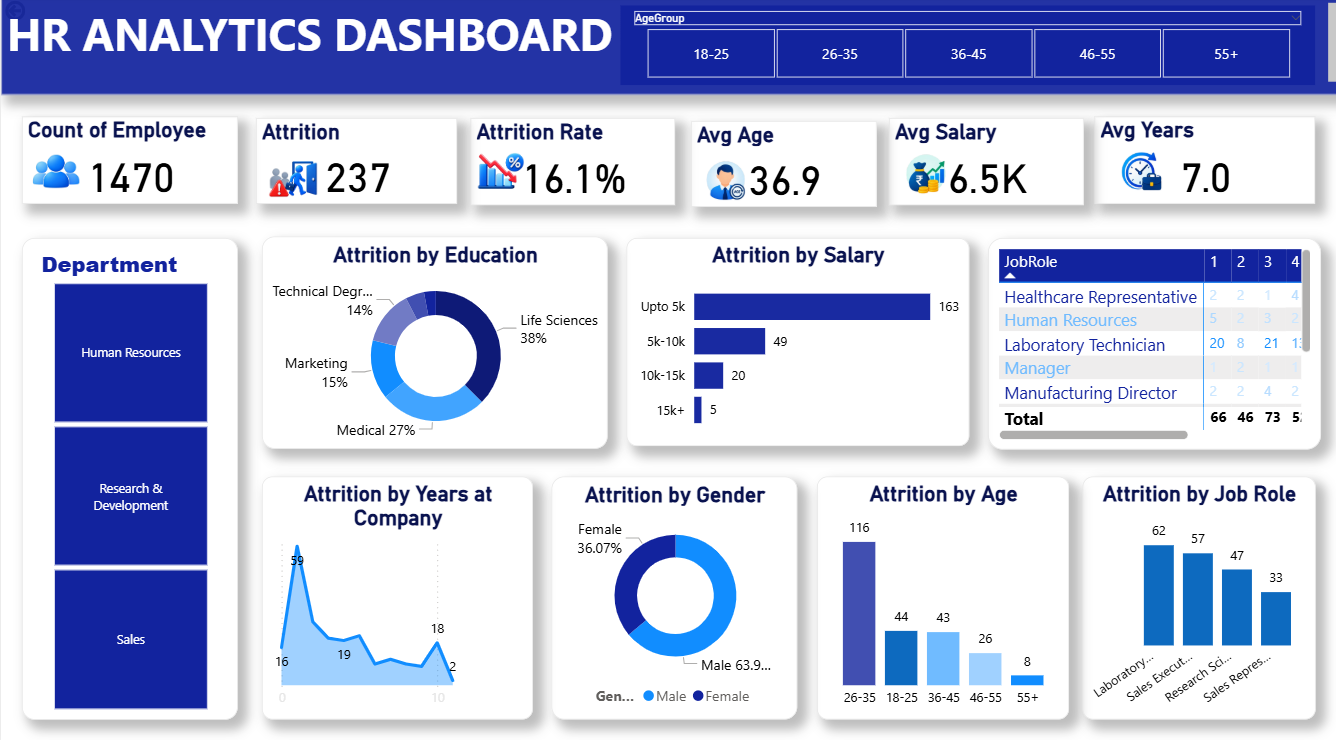

Layout of this report page (visuals, bound fields, positions):
{"tool":"powerbi","page":{"name":"HR ANALYTICS DASHBOARD","canvas":[1280,720],"ordinal":0},"visuals":[{"type":"card","title":"Count of Employee","fields":{"Values":["CountNonNull(HR_Analytics.EmpID)"]},"box":[19.7,116.6,205.9,83.3],"z":0},{"type":"card","title":"Attrition","fields":{"Values":["Sum(HR_Analytics.AttritionCount)"]},"box":[243.8,118.1,192.3,81.8],"z":1000},{"type":"card","title":"Attrition Rate","fields":{"Values":["HR_Analytics.AttritionRate"]},"box":[448.2,118.1,195.3,83.3],"z":2000},{"type":"card","title":"Avg Age","fields":{"Values":["Avg(HR_Analytics.Age)"]},"box":[658.7,119.6,177.2,81.8],"z":3000},{"type":"actionButton","box":[0,1.4,100.3,27.2],"z":4000},{"type":"card","title":"Avg Salary","fields":{"Values":["Avg(HR_Analytics.MonthlyIncome)"]},"box":[848,118.1,186.2,83.3],"z":5000},{"type":"card","title":"Avg Years","fields":{"Values":["Avg(HR_Analytics.YearsAtCompany)"]},"box":[1044.8,116.6,210.5,83.3],"z":6000},{"type":"donutChart","title":"Attrition by Education","fields":{"Y":["Sum(HR_Analytics.AttritionCount)"],"Category":["HR_Analytics.EducationField","HR_Analytics.YearsAtCompany"]},"box":[249.8,230.2,330.1,202.9],"z":7000},{"type":"columnChart","title":"Attrition by Age","fields":{"Category":["HR_Analytics.AgeGroup"],"Y":["Sum(HR_Analytics.AttritionCount)"]},"box":[779.8,460.3,240.8,231.7],"z":8000},{"type":"pivotTable","title":"Job Satisfaction Rating","fields":{"Rows":["HR_Analytics.JobRole"],"Columns":["HR_Analytics.JobSatisfaction"],"Values":["Sum(HR_Analytics.AttritionCount)"]},"box":[942.5,232,318,202],"z":9000},{"type":"barChart","title":"Attrition by Salary","fields":{"Category":["HR_Analytics.SalarySlab"],"Y":["Sum(HR_Analytics.AttritionCount)"]},"box":[596.6,231.7,327.1,198.4],"z":10000},{"type":"columnChart","title":"Attrition by Job Role","fields":{"Category":["HR_Analytics.JobRole"],"Y":["Sum(HR_Analytics.AttritionCount)"]},"box":[1032.7,460.3,222.6,231.7],"z":11000},{"type":"areaChart","title":"Attrition by Years at Company","fields":{"Category":["HR_Analytics.YearsAtCompany"],"Y":["Sum(HR_Analytics.AttritionCount)"]},"box":[249.8,460.3,258.9,231.7],"z":12000},{"type":"donutChart","title":"Attrition by Gender","fields":{"Category":["HR_Analytics.Gender"],"Y":["Sum(HR_Analytics.AttritionCount)"]},"box":[525.4,460.3,234.7,231.7],"z":13000},{"type":"slicer","fields":{"Values":["HR_Analytics.Department"]},"box":[19.7,231.7,205.9,460.3],"z":14000},{"type":"textbox","box":[0,1.5,1279.5,93.9],"z":15000},{"type":"slicer","fields":{"Values":["HR_Analytics.AgeGroup"]},"box":[592.1,10.6,663.2,75.7],"z":16000},{"type":"image","box":[19.7,137.8,66.6,62.1],"z":16001},{"type":"image","box":[243.8,137.8,69.7,77.2],"z":16002},{"type":"image","box":[442.1,143.8,66.6,50],"z":16003},{"type":"image","box":[640.5,124.2,104.5,107.5],"z":16004},{"type":"image","box":[825.2,116.6,116.6,112.1],"z":16005},{"type":"image","box":[1026.6,110.5,124.2,118.1],"z":16006}]}

Visuals, with their boxes in screenshot pixels (x1, y1, x2, y2), scaled from the page's 1280x720 canvas onto the 1336x740 screenshot:
"Count of Employee" card: Rect(21, 120, 235, 205)
"Attrition" card: Rect(254, 121, 455, 205)
"Attrition Rate" card: Rect(468, 121, 672, 207)
"Avg Age" card: Rect(688, 123, 872, 207)
actionButton: Rect(0, 1, 105, 29)
"Avg Salary" card: Rect(885, 121, 1079, 207)
"Avg Years" card: Rect(1091, 120, 1310, 205)
"Attrition by Education" donutChart: Rect(261, 237, 605, 445)
"Attrition by Age" columnChart: Rect(814, 473, 1065, 711)
"Job Satisfaction Rating" pivotTable: Rect(984, 238, 1316, 446)
"Attrition by Salary" barChart: Rect(623, 238, 964, 442)
"Attrition by Job Role" columnChart: Rect(1078, 473, 1310, 711)
"Attrition by Years at Company" areaChart: Rect(261, 473, 531, 711)
"Attrition by Gender" donutChart: Rect(548, 473, 793, 711)
slicer - HR_Analytics.Department: Rect(21, 238, 235, 711)
textbox: Rect(0, 2, 1335, 98)
slicer - HR_Analytics.AgeGroup: Rect(618, 11, 1310, 89)
image: Rect(21, 142, 90, 205)
image: Rect(254, 142, 327, 221)
image: Rect(461, 148, 531, 199)
image: Rect(669, 128, 778, 238)
image: Rect(861, 120, 983, 235)
image: Rect(1072, 114, 1201, 235)
